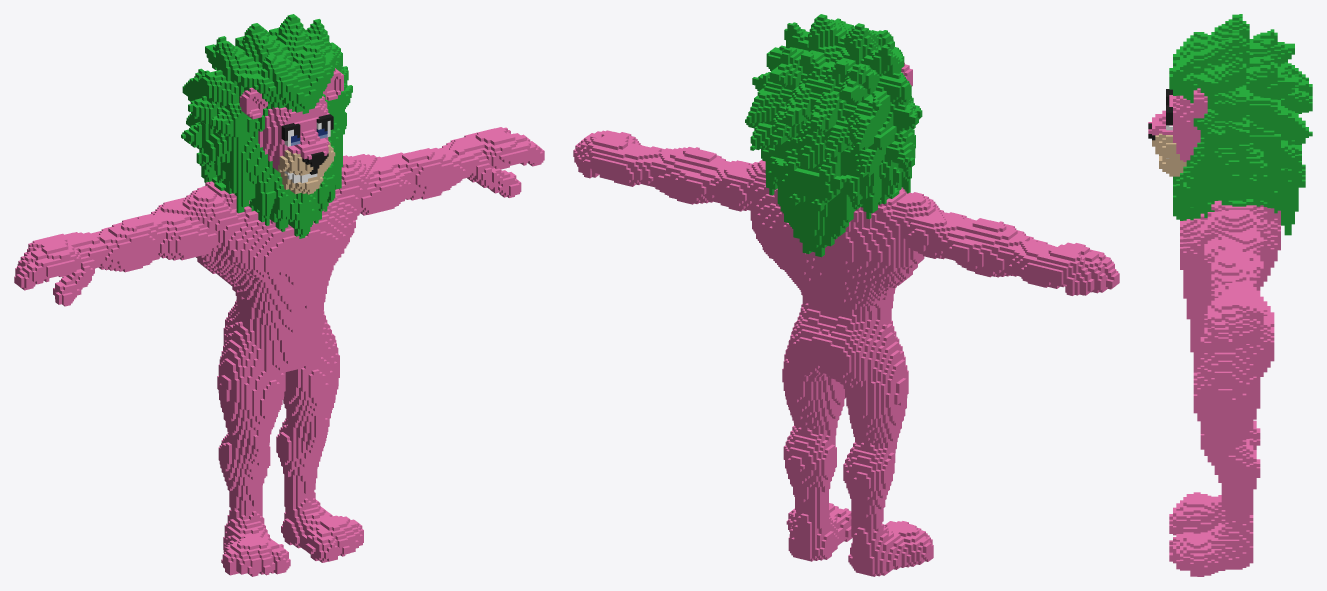
The model's file is 1110-BPQ4j3nf.glb.
3 renders of one model, left to right at view 1: azimuth 30°, elevation 25°; view 2: azimuth 150°, elevation 25°; view 3: azimuth 270°, elevation 25°, orthographic. The views are drawn at different scales.
Parts seen in each view (by area): view 1: grin; view 2: grin; view 3: grin.
Boxes of the visible parts, box(x1,y1,x2,y2) form: grin: box(14, 14, 544, 576); grin: box(573, 14, 1119, 576); grin: box(1148, 14, 1312, 576).
Size of the model in its own units: 17.2 by 16.5 by 4.7.
4 materials, 4 textured.
